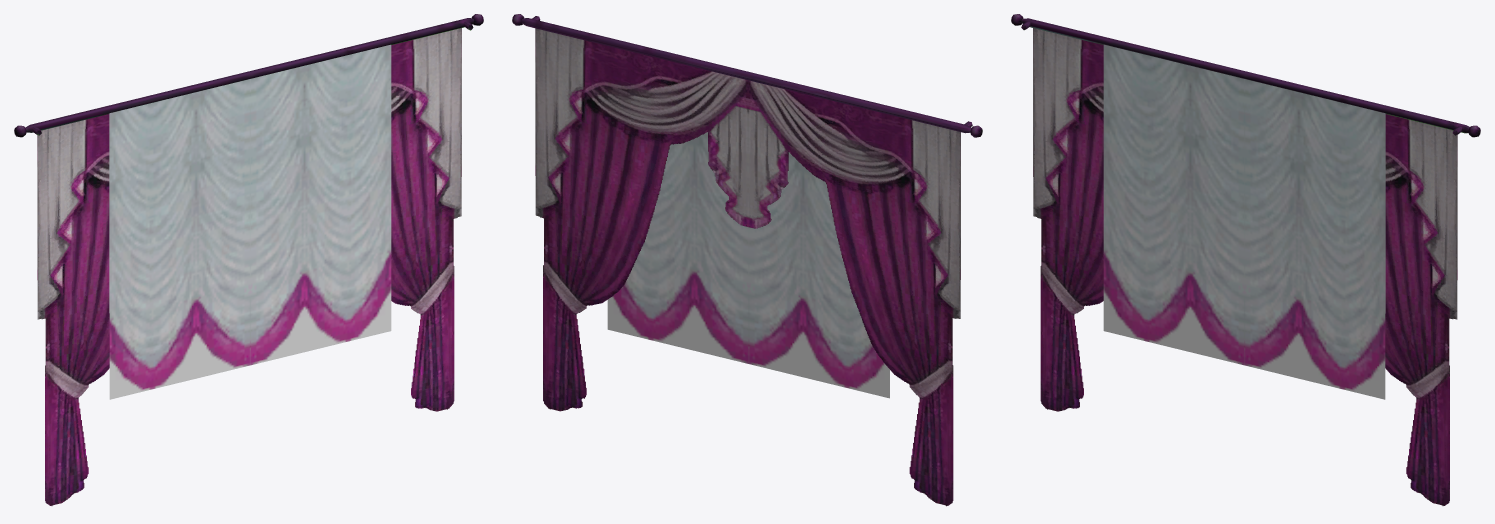
The model's file is furni_0201233_02.FBX.
3 renders of one model, left to right at view 1: azimuth 30°, elevation 25°; view 2: azimuth 150°, elevation 25°; view 3: azimuth 330°, elevation 25°, orthographic.
Visible parts, largest first — view 1: furni_0201233_02; view 2: furni_0201233_02; view 3: furni_0201233_02.
Part boxes in pixels (bbox=[...]): furni_0201233_02: bbox=[14, 14, 483, 505]; furni_0201233_02: bbox=[512, 14, 982, 506]; furni_0201233_02: bbox=[1011, 14, 1480, 505].
Bounding box in the file's own units: 353 × 279 × 12.24.
